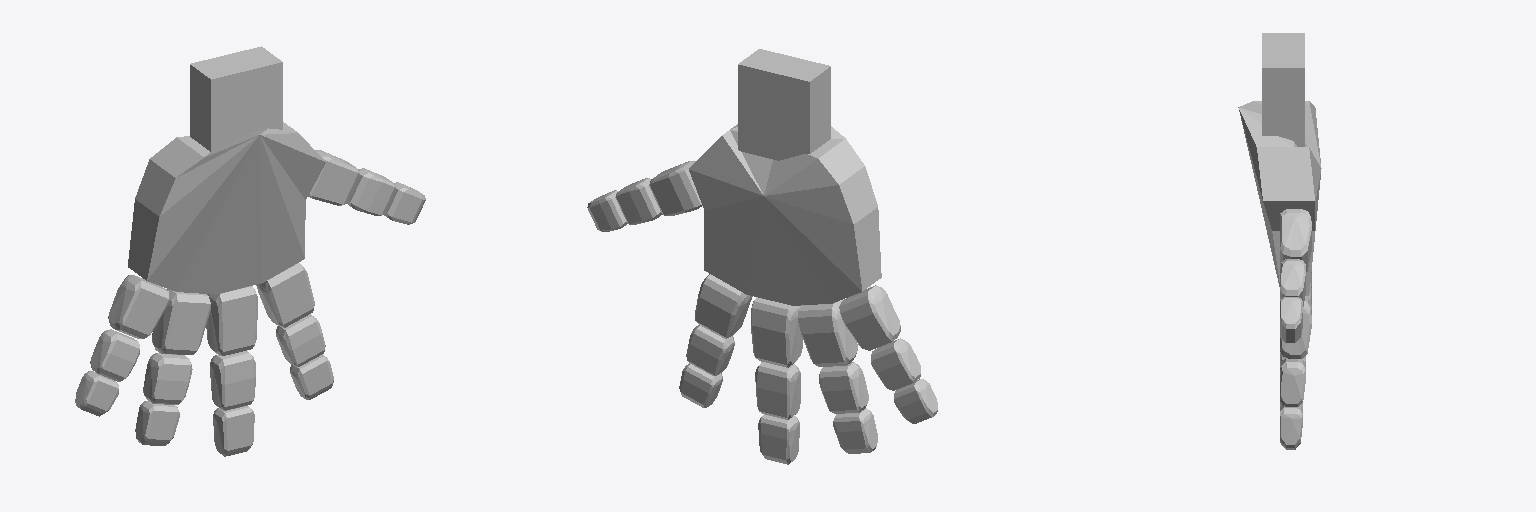
Rendered from rightHand2.obj.
The picture shows the model from 3 angles: view 1: azimuth 30°, elevation 25°; view 2: azimuth 150°, elevation 25°; view 3: azimuth 270°, elevation 25°; orthographic projection.
Size of the model in its own units: 13 by 14.07 by 2.7.